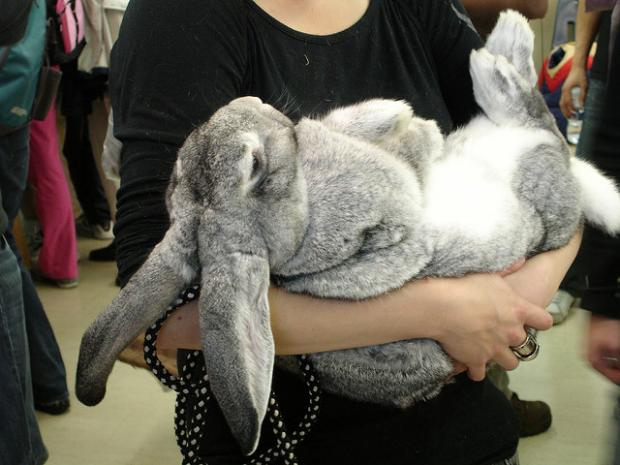bunny: (63, 7, 620, 455)
